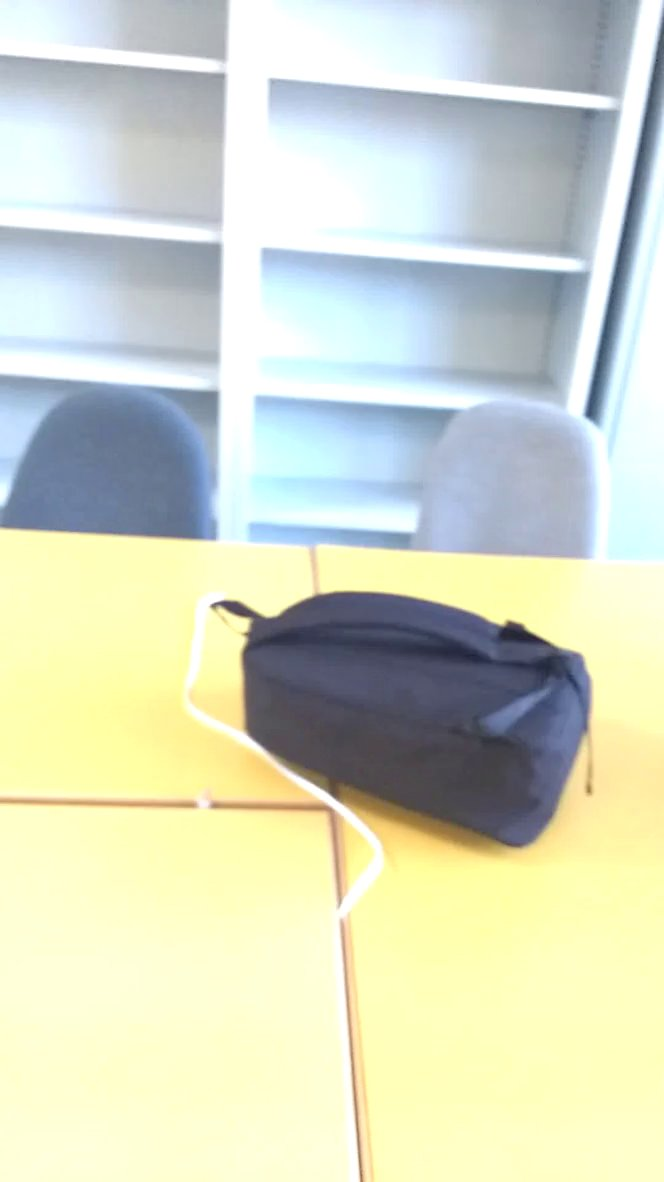bag: (208, 578, 619, 863)
chair: (4, 373, 240, 578), (407, 387, 635, 569)
